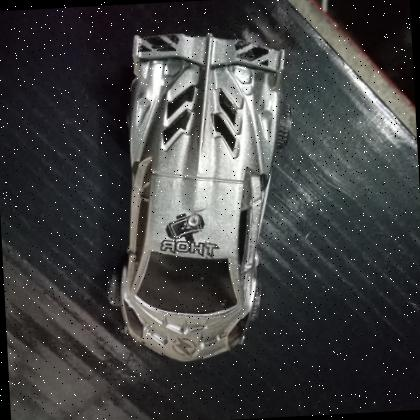Car: (105, 31, 284, 361)
